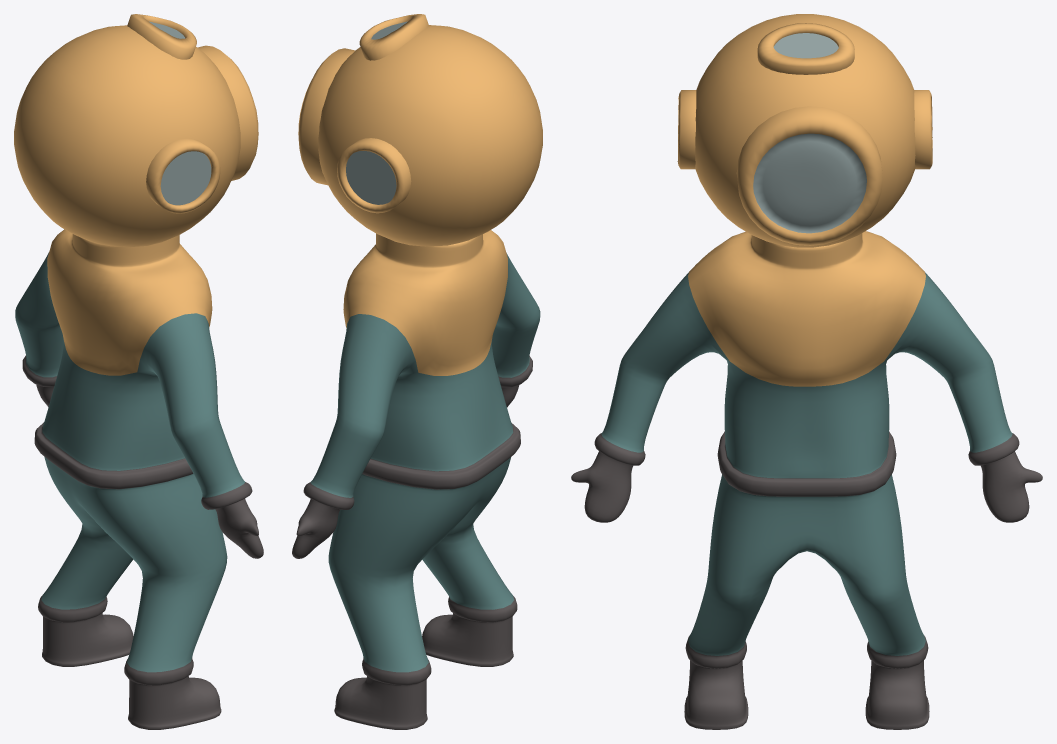
File: buzoRig.fbx
3 renders of one model, left to right at view 1: azimuth 30°, elevation 25°; view 2: azimuth 150°, elevation 25°; view 3: azimuth 270°, elevation 25°, orthographic. The views are drawn at different scales.
Parts seen in each view (by area): view 1: BodyCopy; view 2: BodyCopy; view 3: BodyCopy.
Part boxes in pixels (x1,y1,x2,y2): BodyCopy: (14, 14, 263, 729); BodyCopy: (292, 14, 542, 729); BodyCopy: (571, 14, 1042, 729).
Size of the model in its own units: 37.69 by 116 by 71.87.
